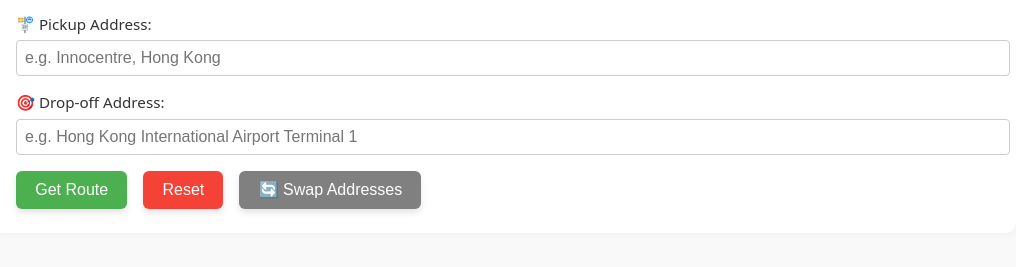
Test: AddressForm › displays error message when pickup and drop-off addresses are the same
Type "Hong Kong" into the field labelled "🚏 Pickup Address:".
click(513, 58); type("Hong Kong")  # box [16,40,1010,76]
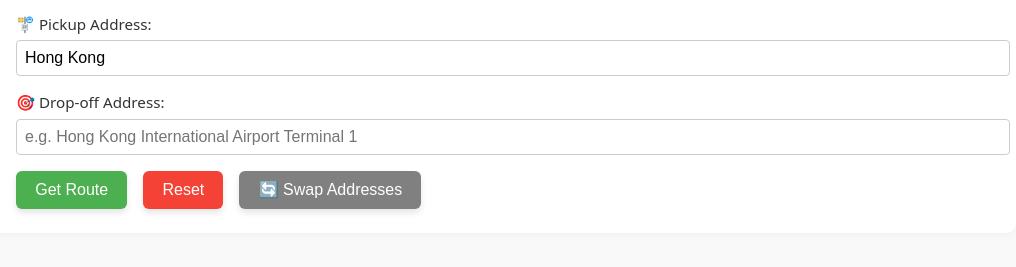
Type "Hong Kong" into the field labelled "🎯 Drop-off Address:".
click(513, 137); type("Hong Kong")  # box [16,119,1010,155]
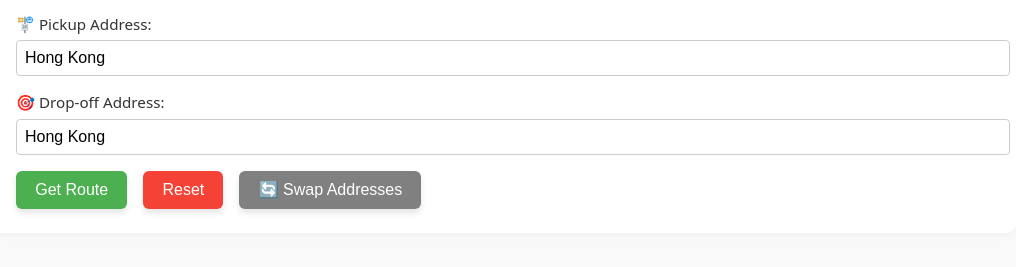
Click the button "Get Route".
click(72, 190)  # box [16,171,127,209]
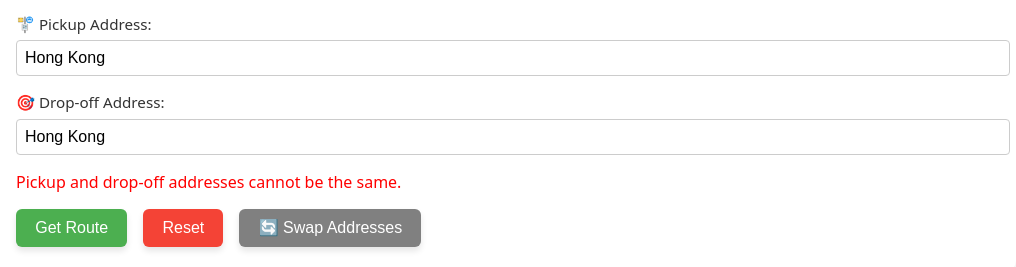
Check: the text "Pickup and drop-off addresses cannot be the same." is shown, box [16,171,401,193]
